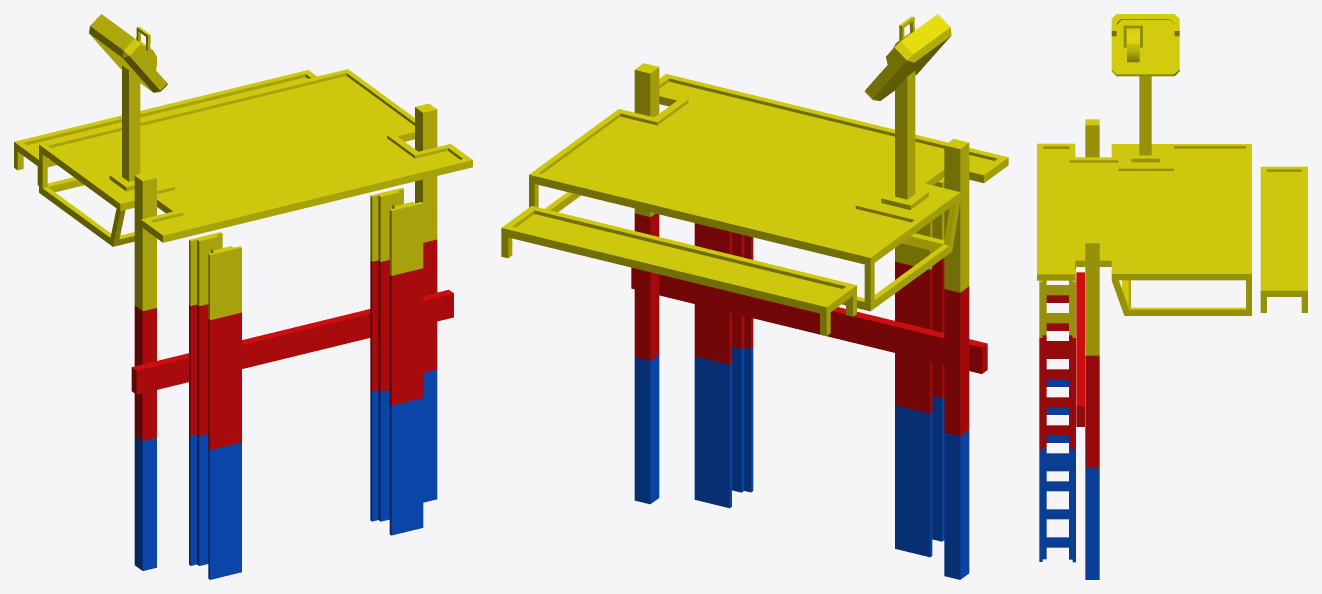
Rendered from SM_Elevator_Ladder_01.fbx.
3 renders of one model, left to right at view 1: azimuth 30°, elevation 25°; view 2: azimuth 150°, elevation 25°; view 3: azimuth 270°, elevation 25°, orthographic. The views are drawn at different scales.
Visible parts, largest first — view 1: Top, Ladder1, Ladder2; view 2: Top, Ladder1, Ladder2; view 3: Top, Ladder1, Ladder2.
Part boxes in pixels (box(x1,y1,x2,y2)): Top: box(14, 14, 472, 320); Ladder1: box(131, 239, 453, 449); Ladder2: box(134, 369, 437, 579); Top: box(501, 14, 1008, 335); Ladder1: box(631, 213, 987, 436); Ladder2: box(634, 347, 969, 579); Top: box(1037, 14, 1307, 355); Ladder1: box(1039, 267, 1099, 467); Ladder2: box(1039, 379, 1099, 579).
Bounding box in the file's own units: 256 × 398 × 219.
